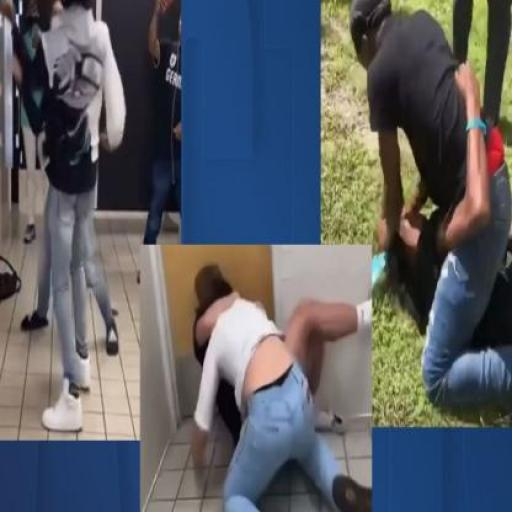Fighting: (352, 2, 512, 426), (142, 246, 370, 512), (5, 0, 138, 441)
